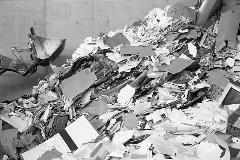paper: (59, 68, 98, 100), (215, 10, 239, 52), (120, 44, 156, 58), (117, 84, 135, 105), (123, 113, 139, 129), (188, 42, 197, 58)
